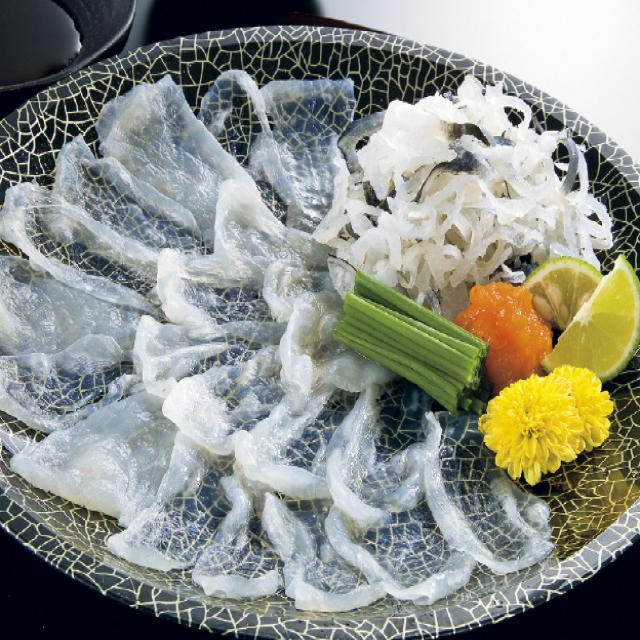刺身生食: (0, 0, 627, 640)
